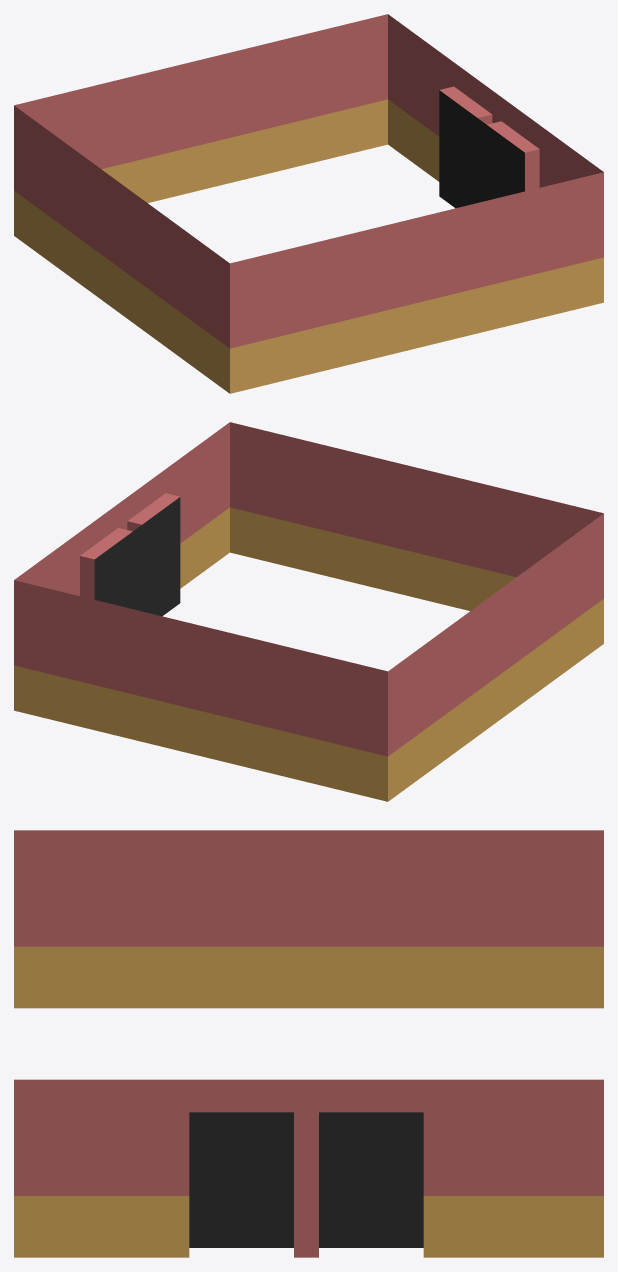
File: SkyScraper_Bottom_01.fbx
3 views of the same model, one above another, from view 1: azimuth 30°, elevation 25°; view 2: azimuth 150°, elevation 25°; view 3: azimuth 270°, elevation 25° (orthographic). The views are drawn at different scales.
Parts seen in each view (by area): view 1: SkyScraper_Bottom_02; view 2: SkyScraper_Bottom_02; view 3: SkyScraper_Bottom_02.
Boxes of the visible parts, bbox=[...] form: SkyScraper_Bottom_02: bbox=[14, 14, 603, 393]; SkyScraper_Bottom_02: bbox=[14, 422, 603, 801]; SkyScraper_Bottom_02: bbox=[14, 830, 603, 1257].
Bounding box in the file's own units: 96 × 32 × 96.
